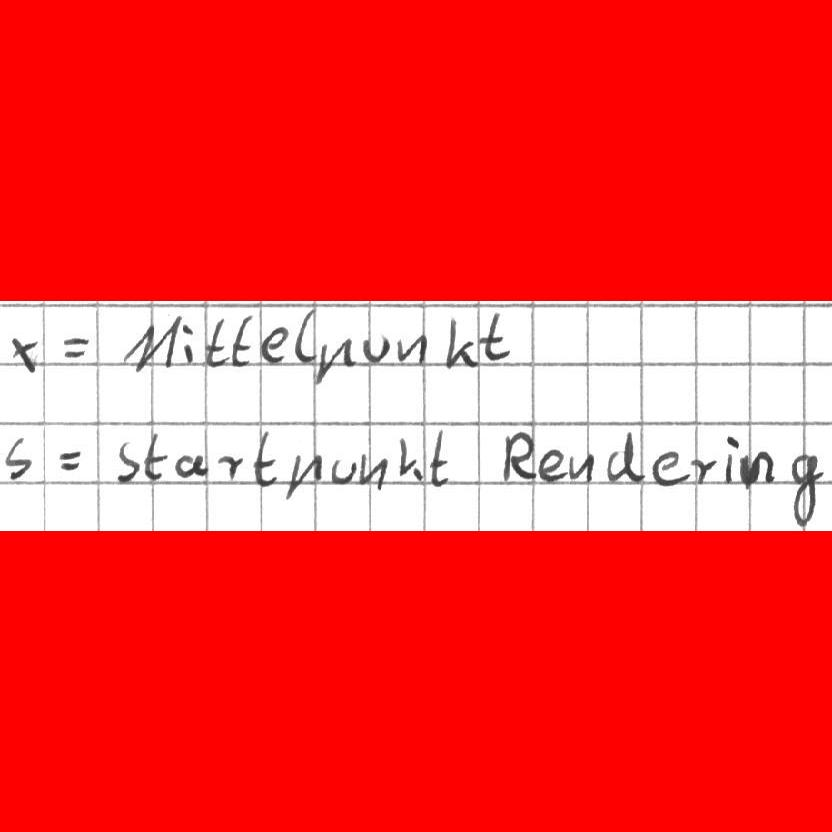Char: (121, 317, 178, 373), (787, 453, 824, 527), (605, 430, 645, 486), (314, 335, 355, 386), (443, 315, 478, 371), (283, 454, 324, 499), (501, 430, 534, 484), (480, 313, 512, 367), (2, 434, 35, 481), (293, 307, 319, 363), (252, 431, 278, 486), (426, 428, 450, 487), (7, 332, 39, 376), (203, 315, 229, 368), (231, 311, 255, 367), (742, 448, 774, 489), (143, 430, 167, 484), (114, 439, 143, 483), (652, 448, 684, 487), (260, 323, 289, 364), (359, 453, 388, 491), (397, 435, 421, 479), (395, 332, 426, 366), (360, 332, 390, 366), (537, 448, 564, 484), (566, 452, 593, 484), (722, 434, 739, 484), (175, 451, 204, 480), (59, 334, 91, 360), (687, 455, 715, 484), (217, 451, 244, 480), (330, 457, 357, 485), (55, 447, 83, 474), (181, 317, 196, 366), (827, 434, 832, 477)
